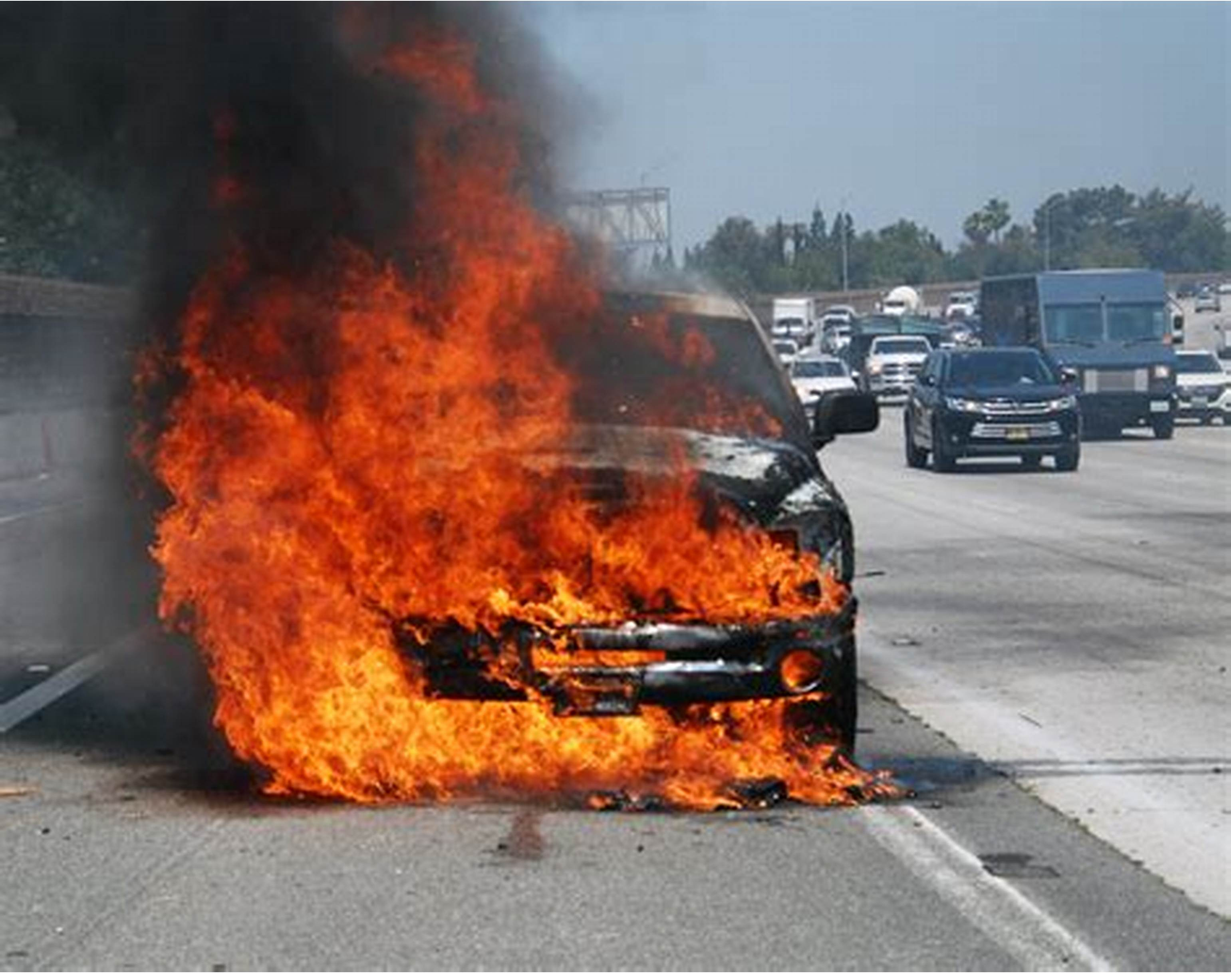fire: (174, 303, 555, 673), (228, 694, 858, 807), (570, 497, 841, 624)
